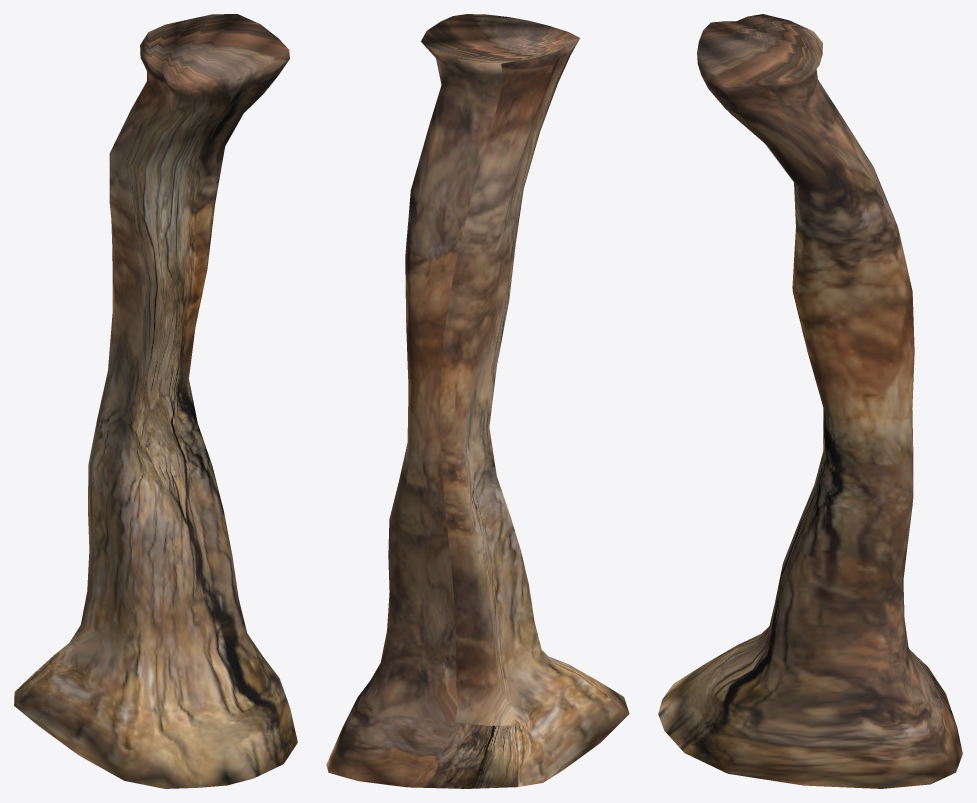
Rendered from rockformation3.obj.
The picture shows the model from 3 angles, left to right: view 1: azimuth 30°, elevation 25°; view 2: azimuth 150°, elevation 25°; view 3: azimuth 270°, elevation 25°; orthographic projection. The views are drawn at different scales.
Parts seen in each view (by area): view 1: rockformation3; view 2: rockformation3; view 3: rockformation3.
Part boxes in pixels (bbox=[...]): rockformation3: bbox=[14, 14, 297, 788]; rockformation3: bbox=[326, 14, 629, 788]; rockformation3: bbox=[658, 14, 962, 788].
Size of the model in its own units: 102 by 328 by 130.
Materials: 1 (1 with a texture image).
